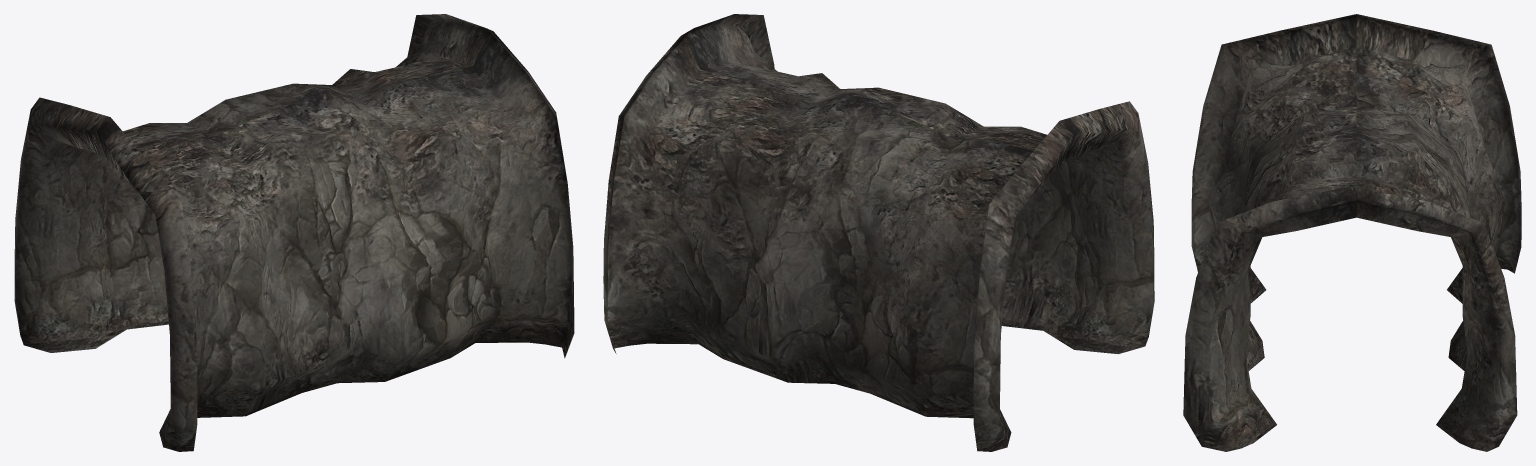
The model's file is DN_Cave_Path.FBX.
3 views of the same model, side by side, from view 1: azimuth 30°, elevation 25°; view 2: azimuth 150°, elevation 25°; view 3: azimuth 270°, elevation 25° (orthographic). The views are drawn at different scales.
Parts seen in each view (by area): view 1: DN_Cave_Path; view 2: DN_Cave_Path; view 3: DN_Cave_Path.
Boxes of the visible parts, x1=… form: DN_Cave_Path: x1=14, y1=14, x2=574, y2=451; DN_Cave_Path: x1=603, y1=14, x2=1154, y2=451; DN_Cave_Path: x1=1183, y1=14, x2=1521, y2=451.
Bounding box in the file's own units: 14.03 × 9.23 × 10.8.
